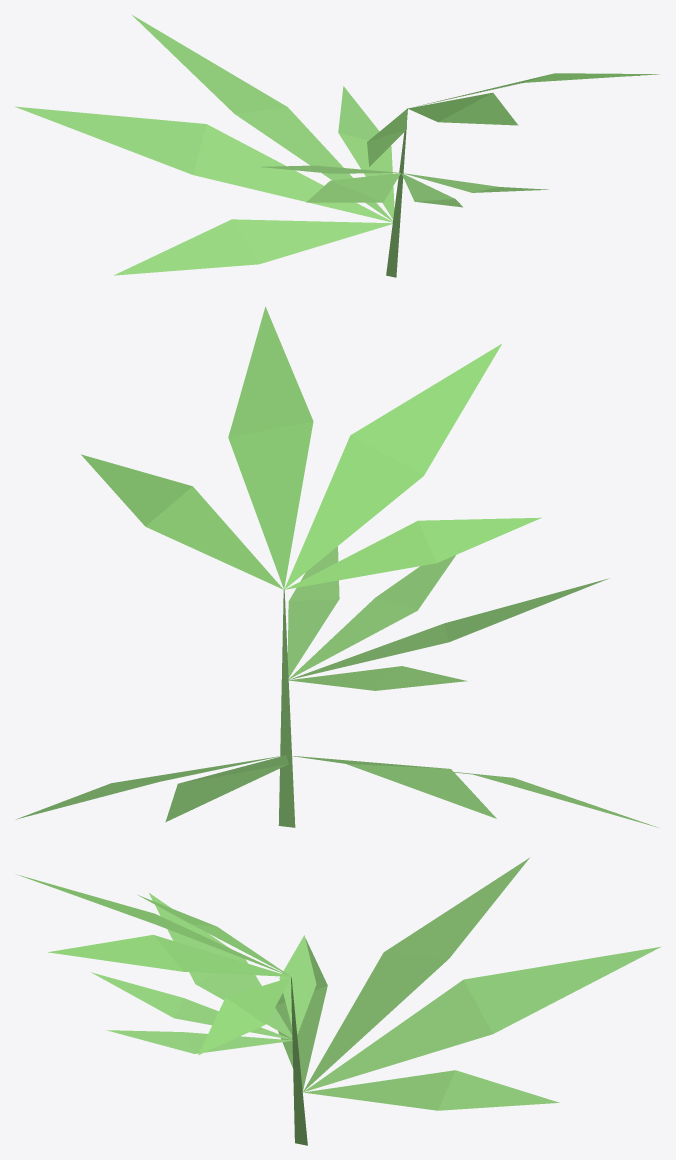
The model's file is Plant_i_OneS_10.fbx.
3 renders of one model, top to bottom at view 1: azimuth 30°, elevation 25°; view 2: azimuth 150°, elevation 25°; view 3: azimuth 270°, elevation 25°, orthographic. The views are drawn at different scales.
Visible parts, largest first — view 1: Plant_i_OneS_10; view 2: Plant_i_OneS_10; view 3: Plant_i_OneS_10.
Boxes of the visible parts, bbox=[...] form: Plant_i_OneS_10: bbox=[15, 15, 659, 277]; Plant_i_OneS_10: bbox=[16, 306, 658, 827]; Plant_i_OneS_10: bbox=[16, 857, 661, 1145].
Bounding box in the file's own units: 19.2 × 9.77 × 21.9.
